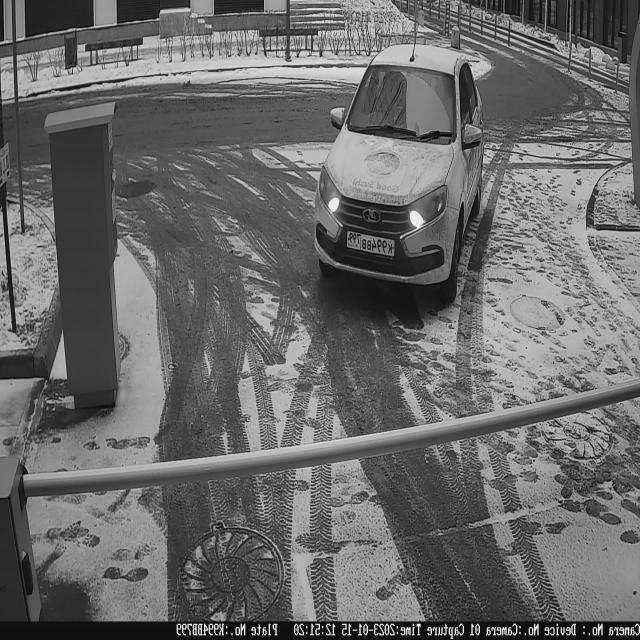car-plate-numbers: (347, 229, 400, 267)
